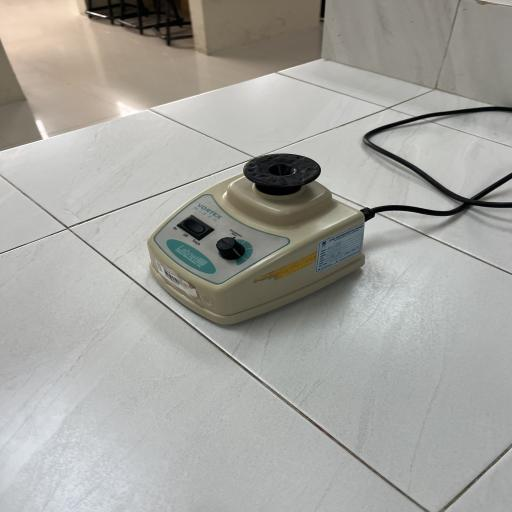Vortex_Mixer_LabNet: (118, 139, 406, 330)
